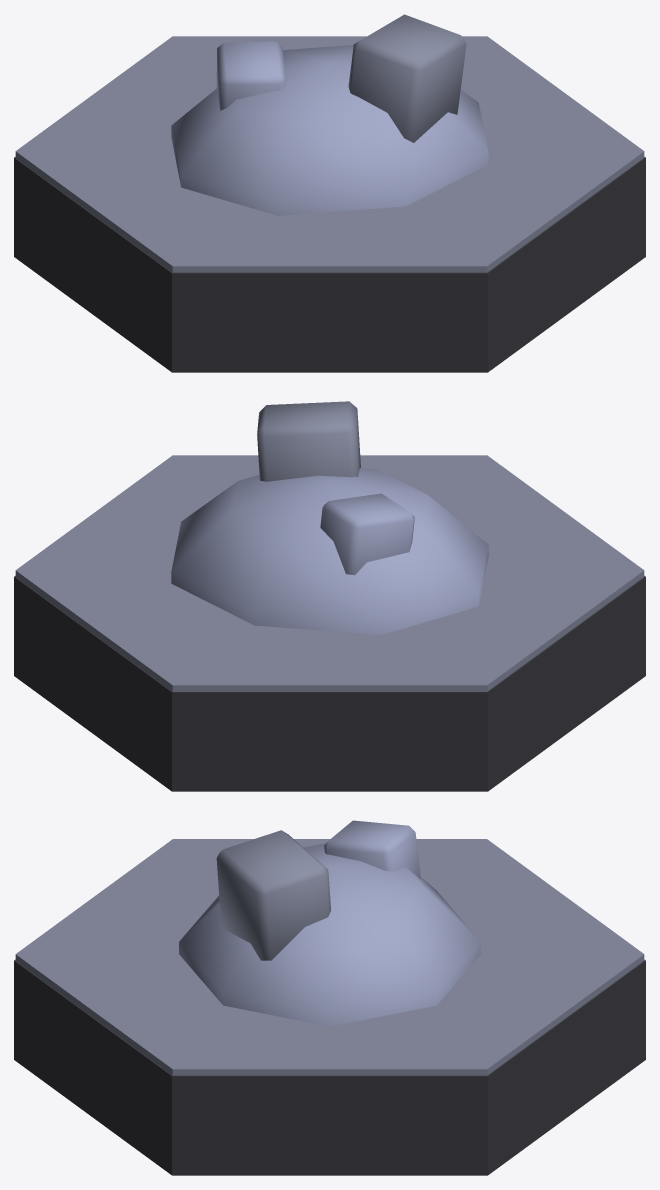
File: stone-hill.glb
3 views of the same model, one above another, from view 1: azimuth 30°, elevation 25°; view 2: azimuth 150°, elevation 25°; view 3: azimuth 270°, elevation 25° (orthographic).
Visible parts, largest first — view 1: stone_hill; view 2: stone_hill; view 3: stone_hill.
Boxes of the visible parts, x1,y1,x2,y2 form: stone_hill: (14, 14, 645, 372); stone_hill: (14, 401, 645, 791); stone_hill: (14, 820, 645, 1175).
Size of the model in its own units: 1 by 0.52 by 1.15.
1 material, 1 textured.
